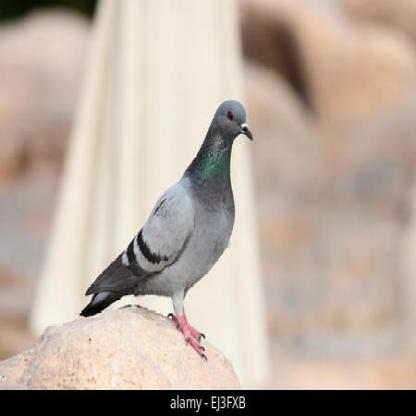Rock Pigeon: (75, 99, 254, 318)
